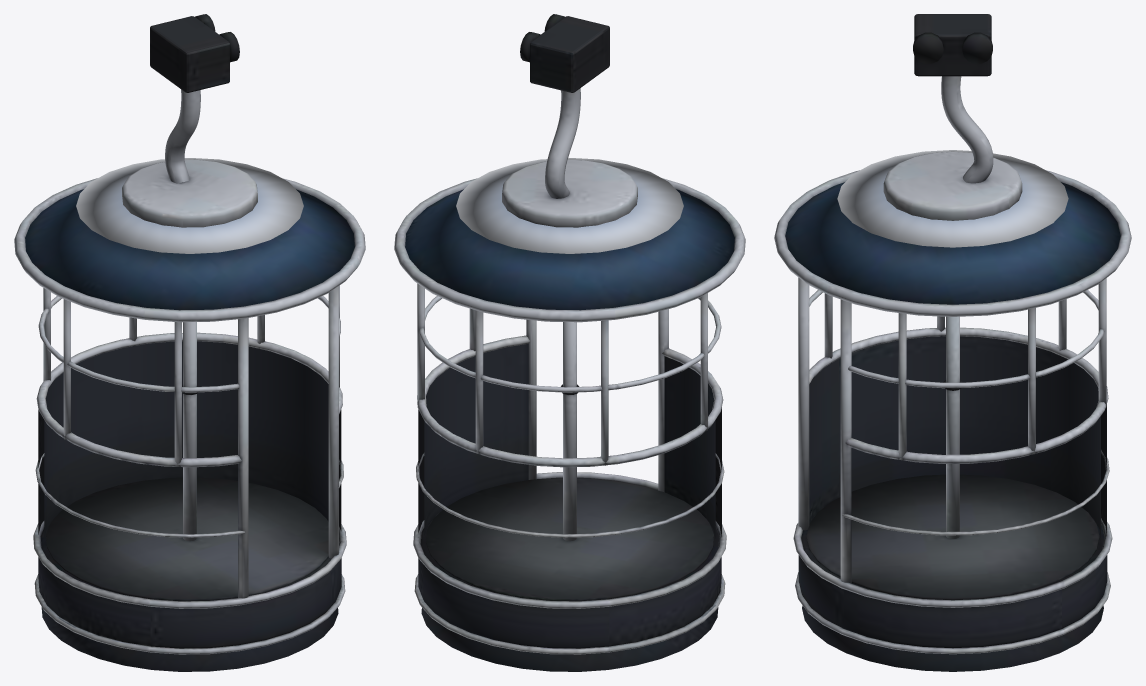
File: cabriolet.glb
3 renders of one model, left to right at view 1: azimuth 30°, elevation 25°; view 2: azimuth 150°, elevation 25°; view 3: azimuth 270°, elevation 25°, orthographic.
Visible parts, largest first — view 1: cabriolet, cabriolet_snow; view 2: cabriolet, cabriolet_snow; view 3: cabriolet, cabriolet_snow.
Part boxes in pixels (left/top/right/bottom): cabriolet: left=14, top=14, right=365, bottom=671; cabriolet_snow: left=76, top=158, right=303, bottom=253; cabriolet: left=394, top=14, right=745, bottom=671; cabriolet_snow: left=456, top=158, right=683, bottom=253; cabriolet: left=774, top=14, right=1131, bottom=671; cabriolet_snow: left=837, top=150, right=1068, bottom=247.
Size of the model in its own units: 2.32 by 4.2 by 2.32.
Materials: 2 (1 with a texture image).
